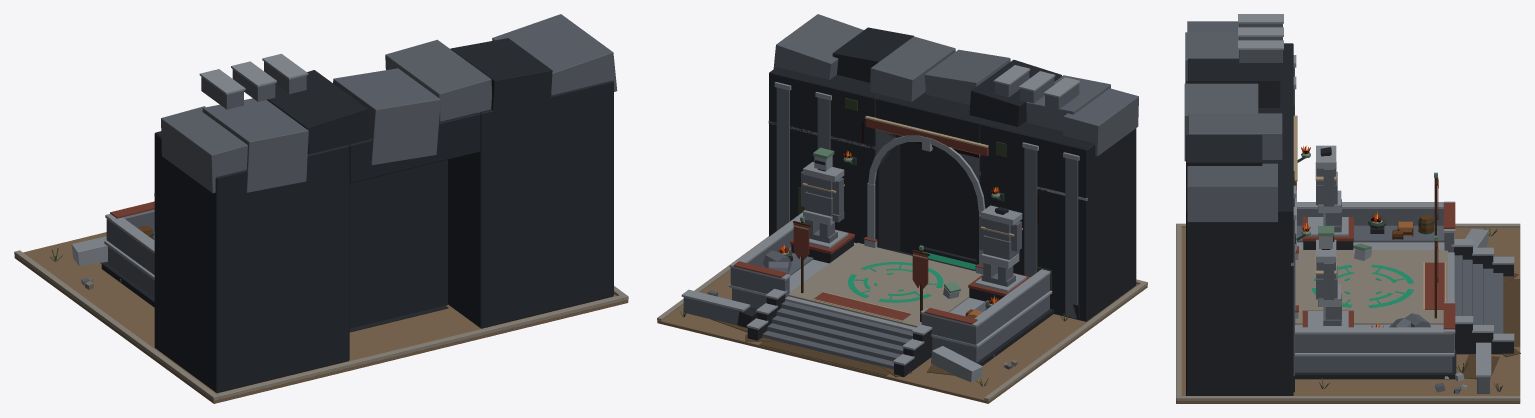
File: 地下城入口_手游_近.glb
3 renders of one model, left to right at view 1: azimuth 30°, elevation 25°; view 2: azimuth 150°, elevation 25°; view 3: azimuth 270°, elevation 25°, orthographic. The views are drawn at different scales.
Parts seen in each view (by area): view 1: UC-主体; view 2: UC-主体, UC-team, UC-自发光, UC-team_trim; view 3: UC-主体, UC-team, UC-自发光, UC-team_trim.
Boxes of the visible parts, x1,y1,x2,y2 form: UC-主体: (14,14,628,403); UC-主体: (657,14,1147,403); UC-team: (733,118,1030,324); UC-自发光: (778,121,1038,304); UC-team_trim: (794,116,1022,321); UC-主体: (1176,14,1520,403); UC-team: (1294,177,1455,329); UC-自发光: (1301,145,1413,327); UC-team_trim: (1293,115,1445,309).
Bounding box in the file's own units: 14.6 × 9.18 × 12.17.
4 materials, 2 textured.
